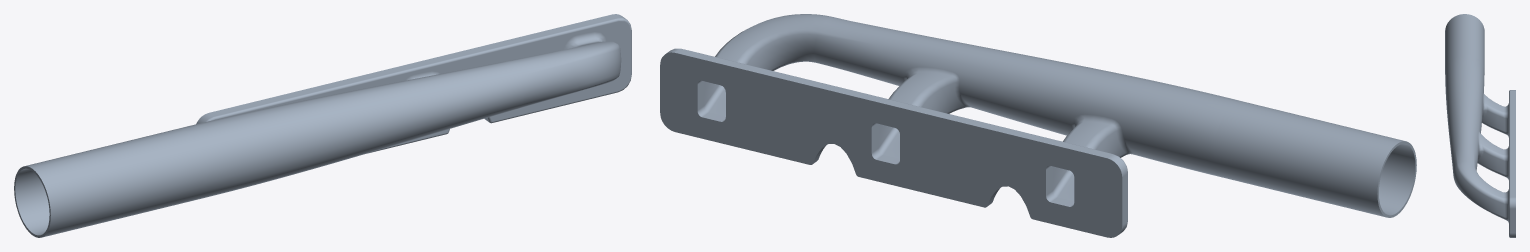
The model's file is exhaust_mirror.obj.
The picture shows the model from 3 angles, left to right: view 1: azimuth 30°, elevation 25°; view 2: azimuth 150°, elevation 25°; view 3: azimuth 270°, elevation 25°; orthographic projection. The views are drawn at different scales.
Visible parts, largest first — view 1: 1; view 2: 1; view 3: 1.
Part boxes in pixels (x1,y1,x2,y2): 1: [14, 14, 631, 237]; 1: [660, 14, 1416, 237]; 1: [1445, 14, 1515, 237].
Bounding box in the file's own units: 575 × 92.07 × 102.
